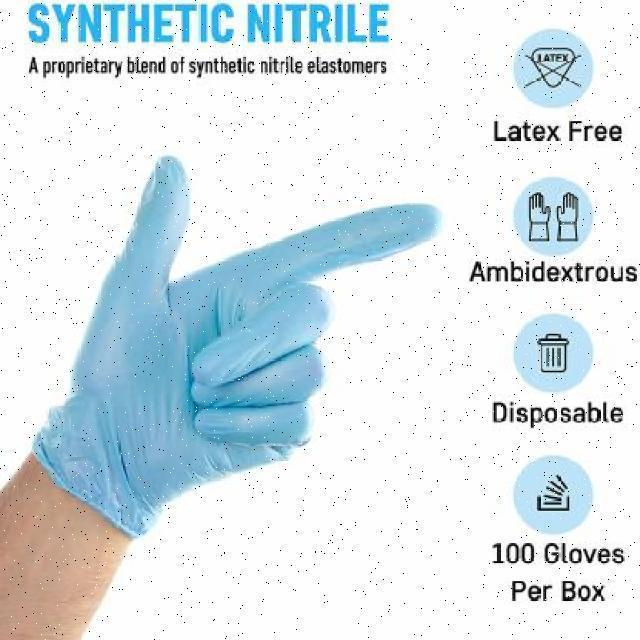Gloves: (30, 154, 441, 539)
